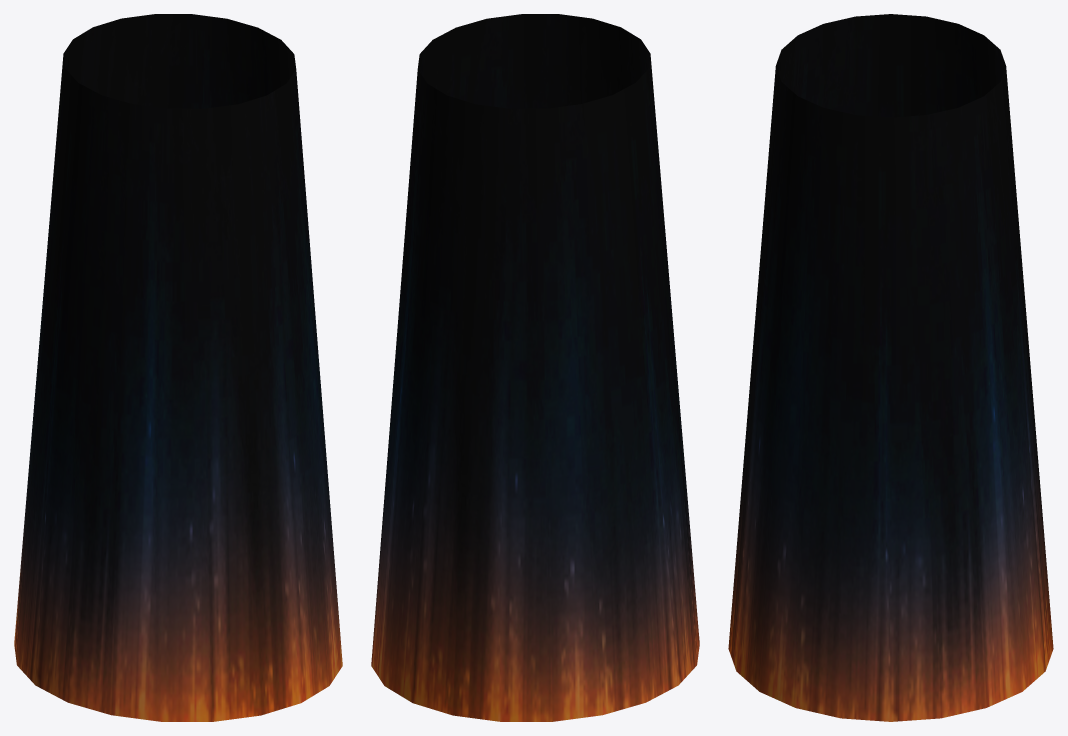
File: zhs_tx03.FBX
3 renders of one model, left to right at view 1: azimuth 30°, elevation 25°; view 2: azimuth 150°, elevation 25°; view 3: azimuth 270°, elevation 25°, orthographic.
Visible parts, largest first — view 1: zhs_tx003; view 2: zhs_tx003; view 3: zhs_tx003.
Part boxes in pixels (box(x1,y1,x2,y2)): zhs_tx003: box(14, 14, 342, 721); zhs_tx003: box(371, 14, 699, 721); zhs_tx003: box(728, 14, 1053, 721).
Bounding box in the file's own units: 0.6939 × 1.39 × 0.694.
